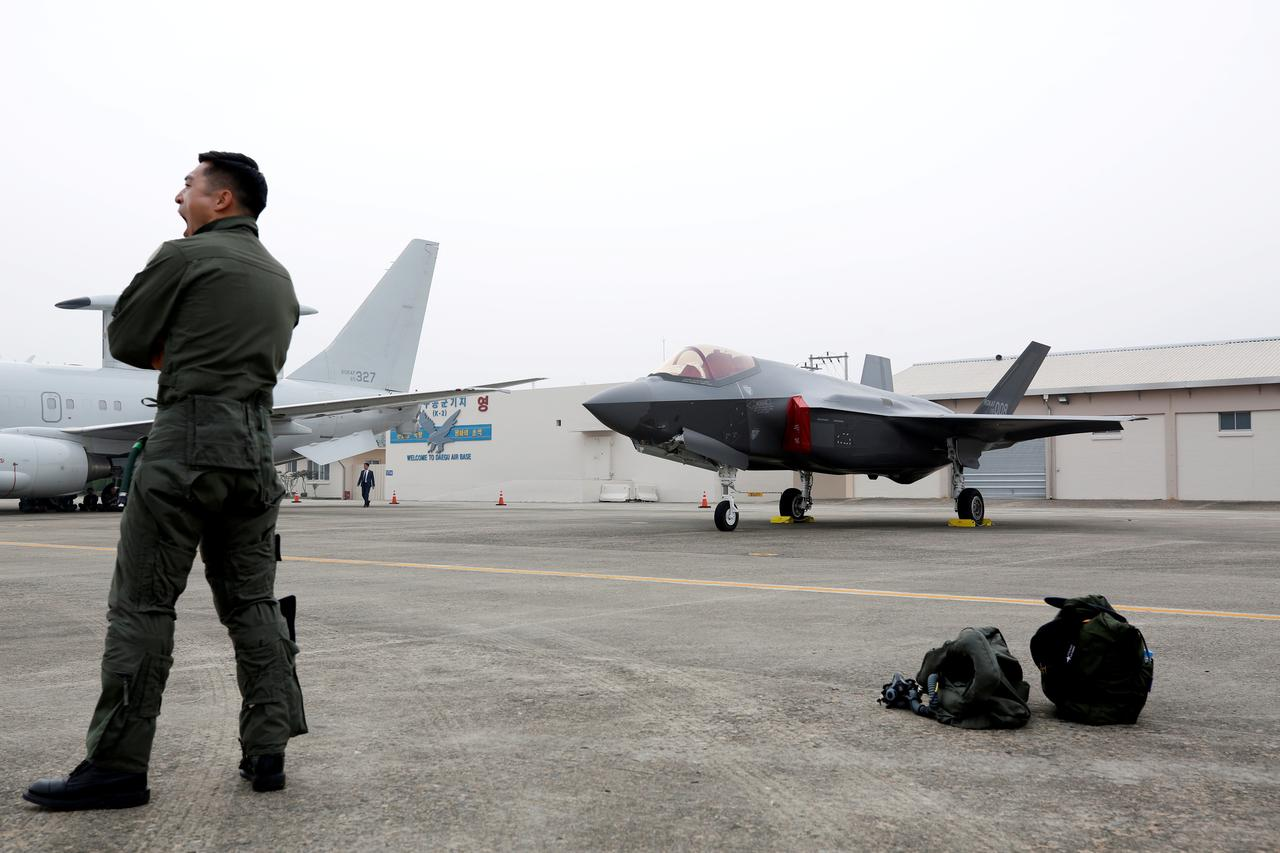F-35 Lightning: (575, 285, 1130, 568)
